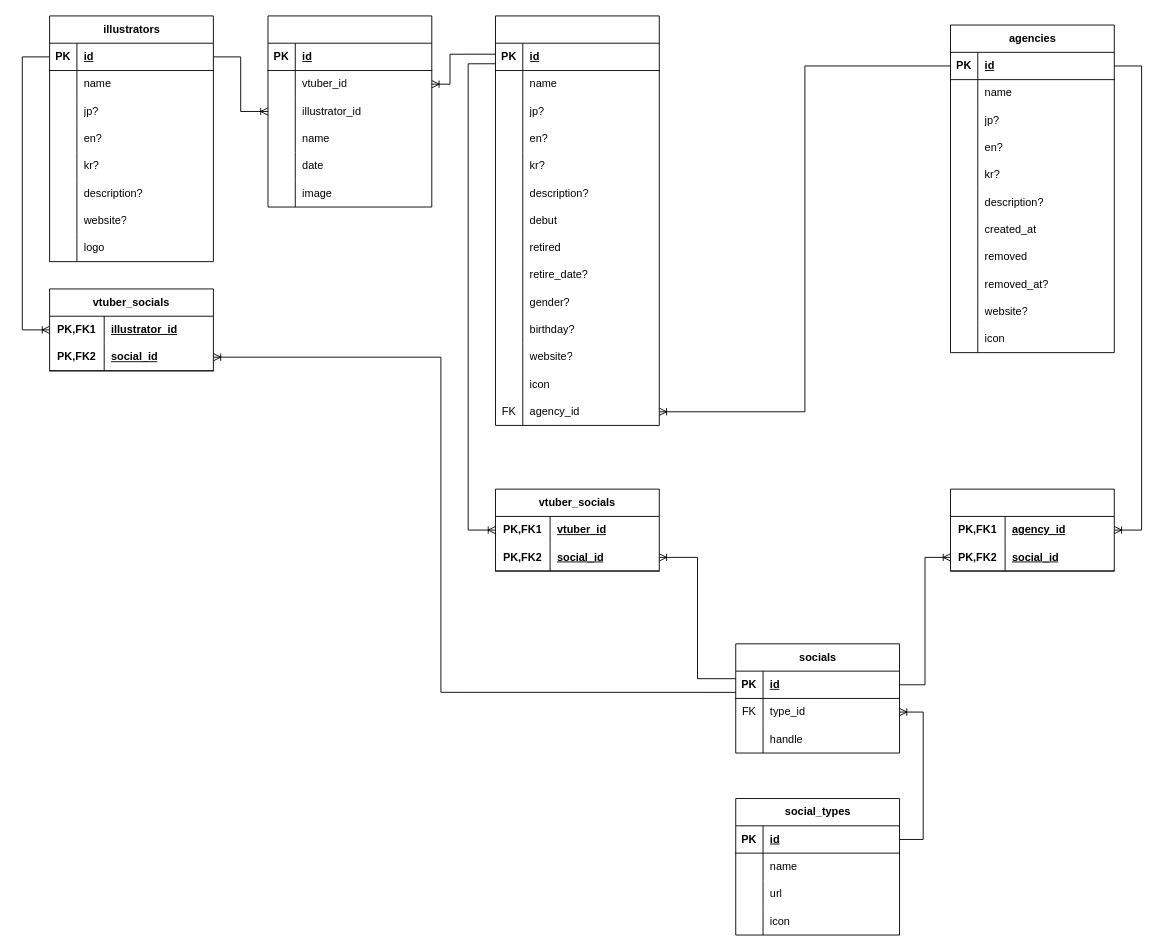
This 1165x951 diagram has some shape labels left out. Each missing label, with the box of its shape:
agency_socials: (950, 488, 1114, 571)
outfits: (267, 15, 432, 207)
vtubers: (495, 15, 659, 425)
